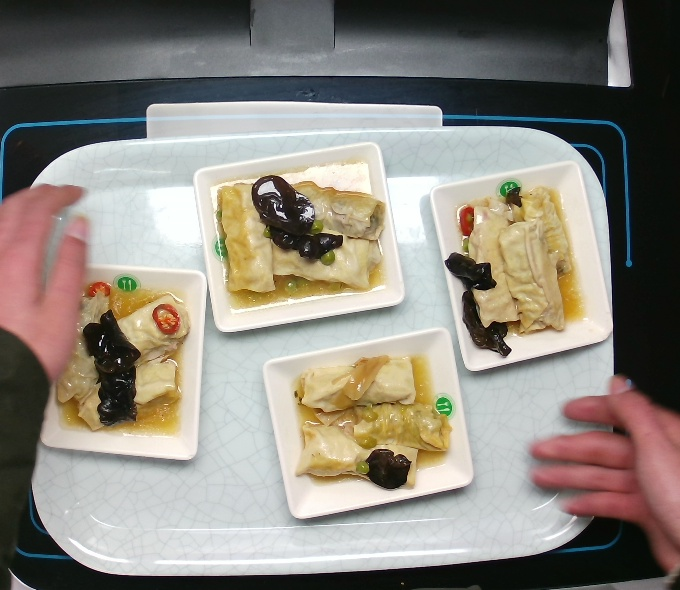wcq-QianZhangBao: (208, 156, 390, 314), (441, 181, 590, 361), (287, 348, 457, 495), (49, 277, 193, 441)
